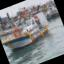fishing boat: (0, 6, 55, 55)
